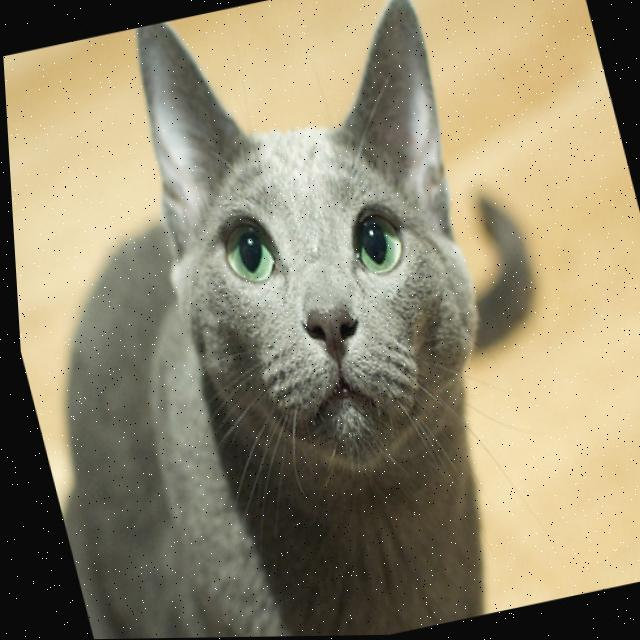Russian Blue: (0, 0, 611, 640)
